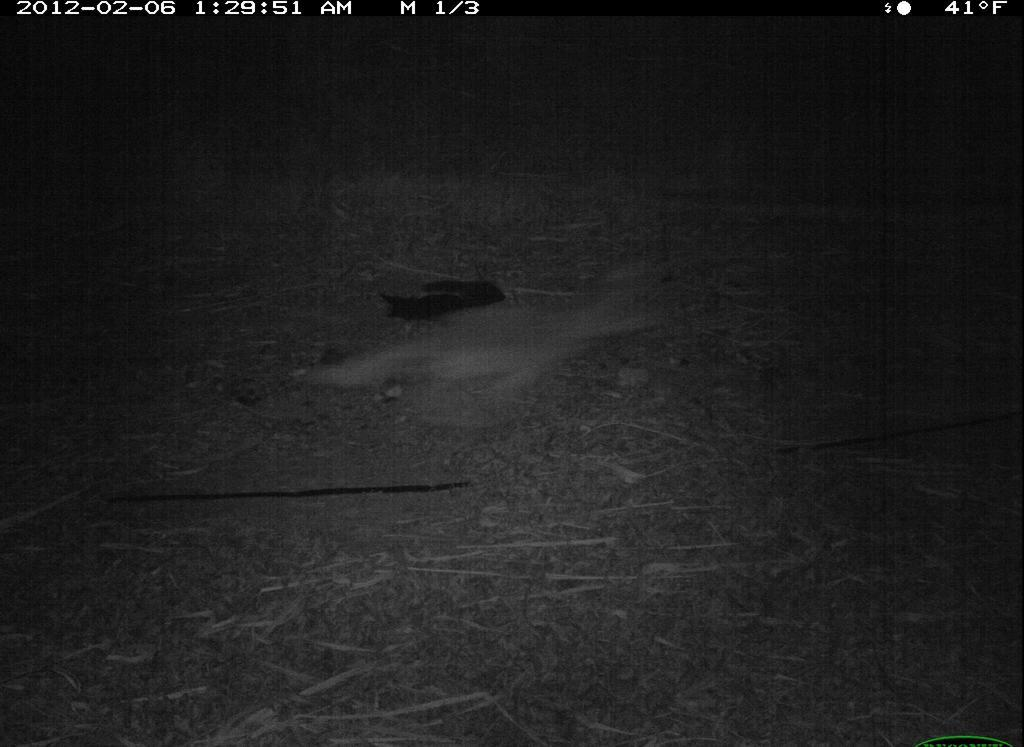coyote: (300, 255, 679, 440)
